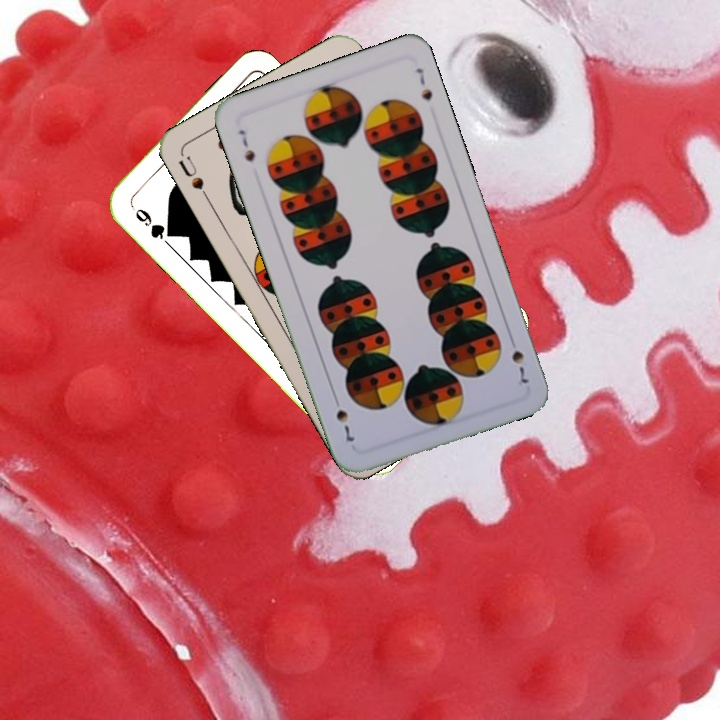G9: (126, 199, 177, 242)
S7: (505, 331, 531, 389), (234, 125, 258, 165)
SU: (174, 150, 213, 204)
